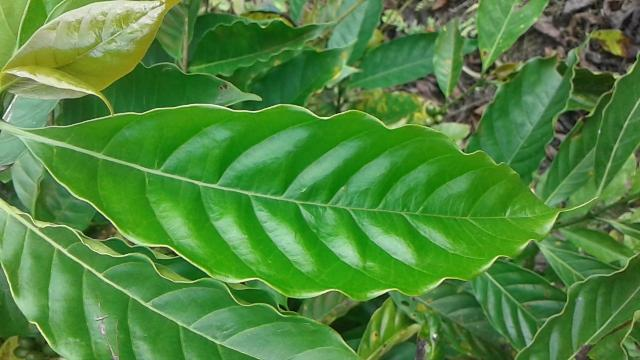healthy: (20, 101, 603, 306)
